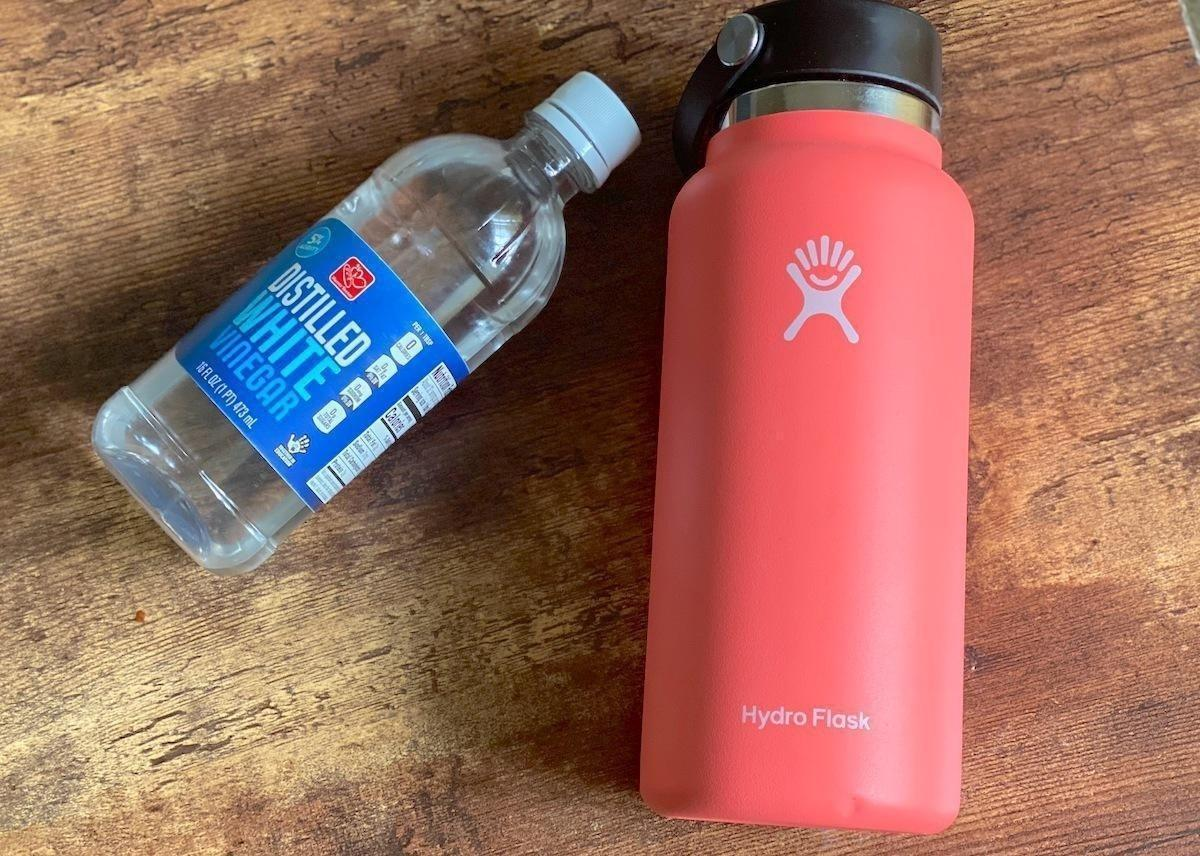bottle-plastic: (80, 65, 648, 581)
gym bottle: (620, 3, 985, 837)
